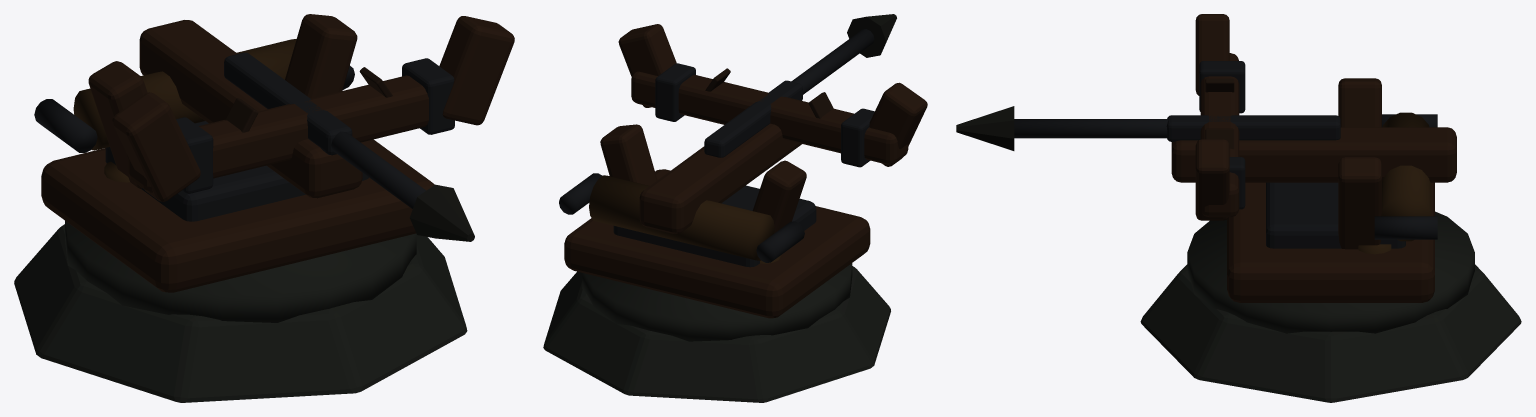
The model's file is TowerSeed1_pose.obj.
3 views of the same model, side by side, from view 1: azimuth 30°, elevation 25°; view 2: azimuth 150°, elevation 25°; view 3: azimuth 270°, elevation 25° (orthographic). The views are drawn at different scales.
Visible parts, largest first — view 1: limestone_socket_lower_course, oak_bed, cut_stone_course, oak_bow_crossbar, ballista_stock, bow_tip, bow_tip.001, oak_A_frame.001, iron_turntable, iron_guide, bronze_windlass, oak_A_frame (+6 smaller); view 2: limestone_socket_lower_course, oak_bed, cut_stone_course, oak_bow_crossbar, ballista_stock, bronze_windlass, iron_guide, oak_A_frame.001, iron_turntable, oak_A_frame, bow_tip, bow_tip.001 (+7 smaller); view 3: limestone_socket_lower_course, oak_bed, cut_stone_course, ballista_stock, iron_turntable, iron_guide, oak_A_frame.001, iron_bolt, bronze_windlass, oak_bow_crossbar, bow_tip.001, oak_A_frame (+5 smaller).
Boxes of the visible parts, x1,y1,x2,y2 form: limestone_socket_lower_course: (14, 224, 467, 402); oak_bed: (41, 139, 434, 292); cut_stone_course: (65, 221, 416, 322); oak_bow_crossbar: (128, 75, 428, 192); ballista_stock: (139, 20, 362, 198); bow_tip: (112, 92, 200, 201); bow_tip.001: (439, 16, 514, 125); oak_A_frame.001: (285, 14, 357, 98); iron_turntable: (105, 121, 368, 221); iron_guide: (224, 52, 352, 155); bronze_windlass: (73, 39, 296, 150); oak_A_frame: (88, 61, 147, 189); limestone_socket_lower_course: (543, 266, 890, 402); oak_bed: (564, 169, 870, 318); cut_stone_course: (582, 263, 852, 341); oak_bow_crossbar: (631, 71, 908, 164); ballista_stock: (639, 123, 801, 233); bronze_windlass: (589, 175, 774, 260); iron_guide: (704, 80, 802, 157); oak_A_frame.001: (600, 124, 657, 185); iron_turntable: (613, 185, 816, 267); oak_A_frame: (752, 160, 806, 233); bow_tip: (869, 82, 927, 166); bow_tip.001: (618, 24, 676, 107); limestone_socket_lower_course: (1140, 264, 1521, 402); oak_bed: (1227, 182, 1434, 302); cut_stone_course: (1187, 211, 1474, 333); ballista_stock: (1171, 127, 1456, 182); iron_turntable: (1266, 182, 1405, 248); iron_guide: (1166, 115, 1340, 141); oak_A_frame.001: (1338, 157, 1381, 249); iron_bolt: (1014, 119, 1168, 138); bronze_windlass: (1381, 112, 1431, 241); oak_bow_crossbar: (1200, 53, 1239, 217); bow_tip.001: (1195, 139, 1229, 220); oak_A_frame: (1338, 78, 1381, 127).
Size of the model in its own units: 1.58 by 1.12 by 2.34.
